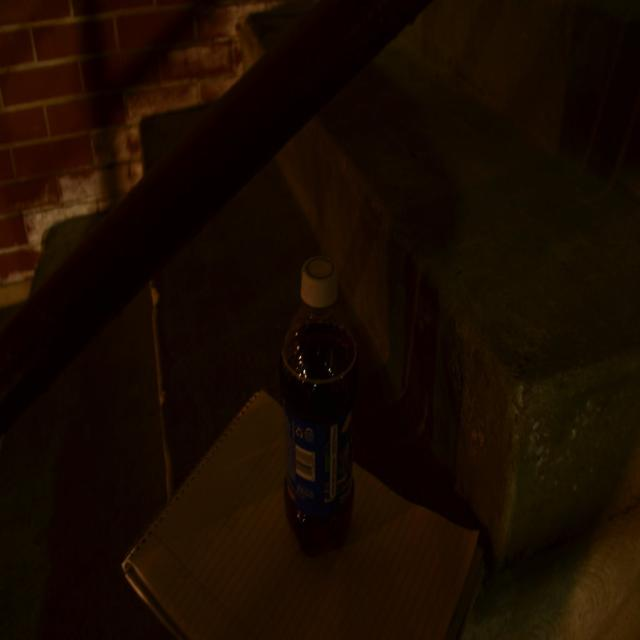Bottle: (273, 245, 351, 544)
